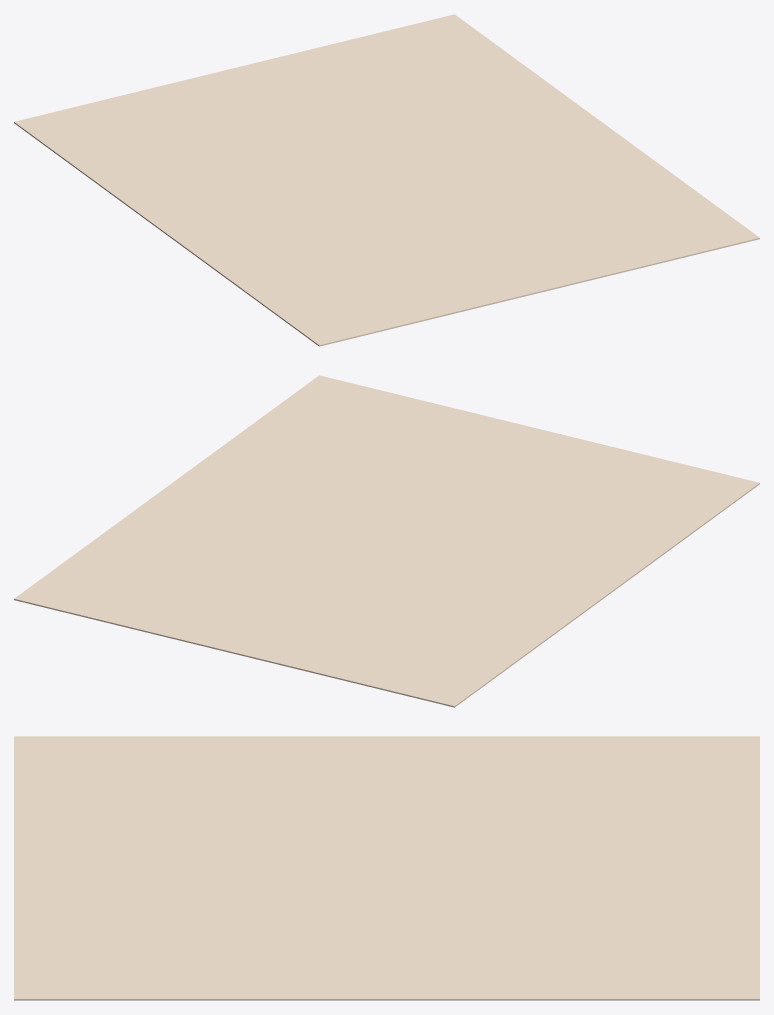
File: celing.fbx
3 renders of one model, top to bottom at view 1: azimuth 30°, elevation 25°; view 2: azimuth 150°, elevation 25°; view 3: azimuth 270°, elevation 25°, orthographic. The views are drawn at different scales.
Visible parts, largest first — view 1: floor.001; view 2: floor.001; view 3: floor.001.
Part boxes in pixels (bbox=[...]): floor.001: bbox=[14, 14, 759, 346]; floor.001: bbox=[14, 375, 759, 707]; floor.001: bbox=[14, 736, 759, 1000].
Bounding box in the file's own units: 1000 × 7 × 1200.
